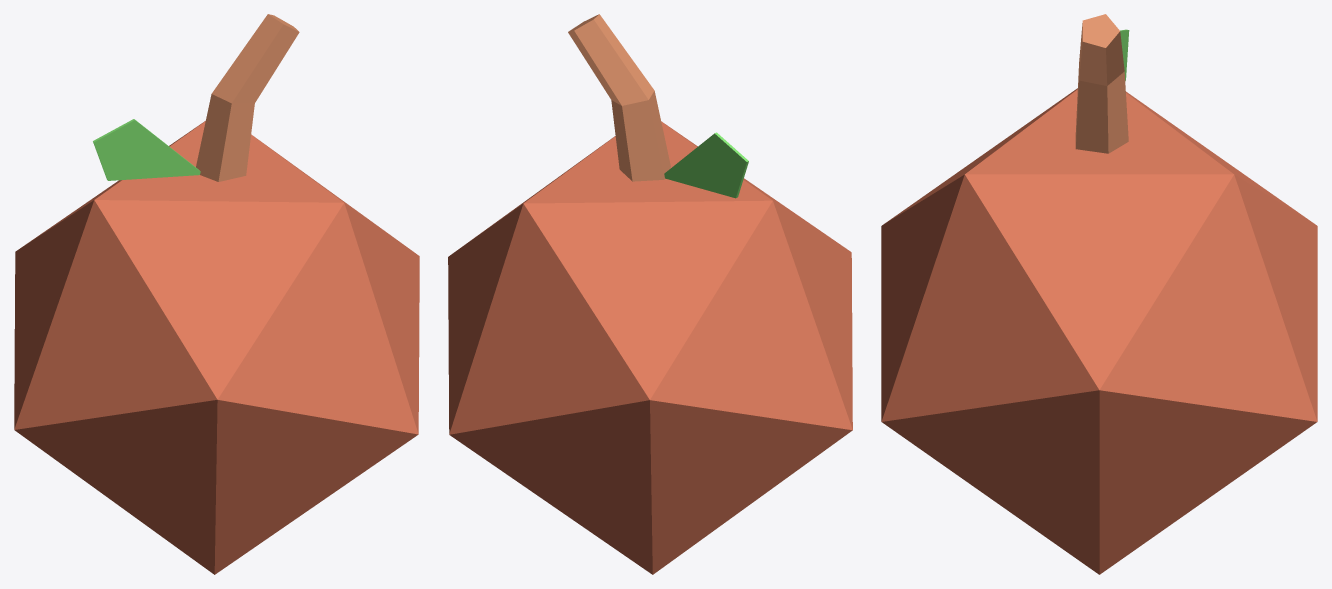
File: Apple.fbx
3 views of the same model, side by side, from view 1: azimuth 30°, elevation 25°; view 2: azimuth 150°, elevation 25°; view 3: azimuth 270°, elevation 25° (orthographic). The views are drawn at different scales.
Visible parts, largest first — view 1: Icosphere; view 2: Icosphere; view 3: Icosphere.
Boxes of the visible parts, left/top/right/bottom form: Icosphere: left=14, top=14, right=419, bottom=574; Icosphere: left=448, top=14, right=852, bottom=574; Icosphere: left=881, top=14, right=1317, bottom=574.
Bounding box in the file's own units: 49.24 × 56.49 × 42.53.
